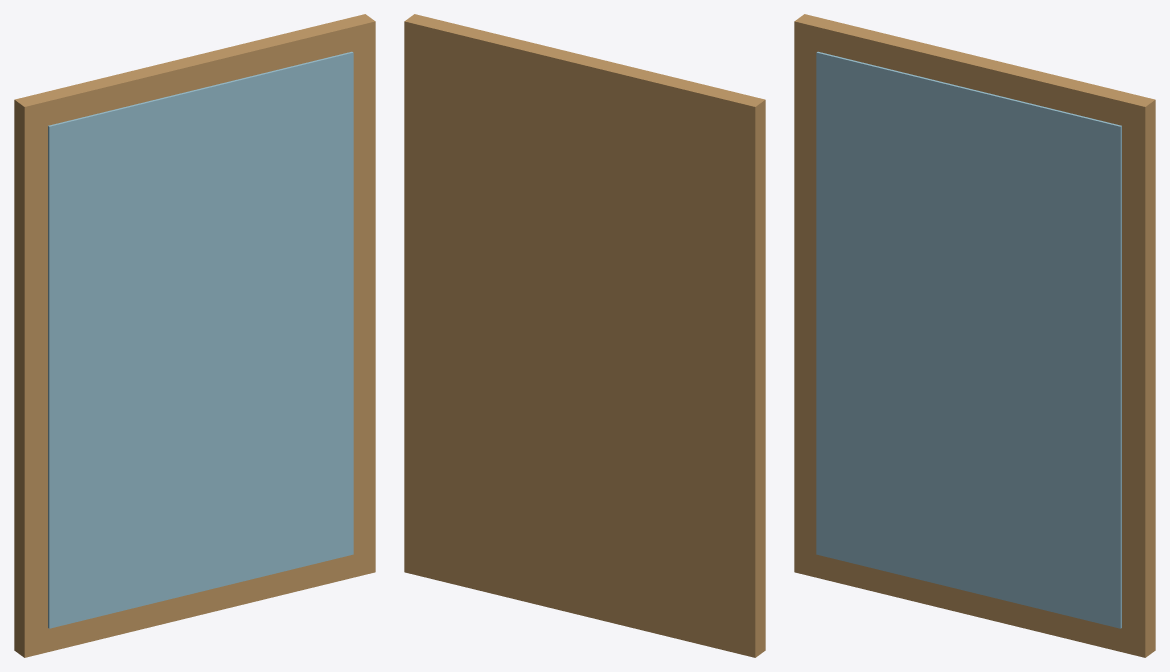
Rendered from GD_Mirror_Wall_01.glb.
3 renders of one model, left to right at view 1: azimuth 30°, elevation 25°; view 2: azimuth 150°, elevation 25°; view 3: azimuth 330°, elevation 25°, orthographic.
Parts seen in each view (by area): view 1: GD_Mirror_Wall_01; view 2: GD_Mirror_Wall_01; view 3: GD_Mirror_Wall_01.
Boxes of the visible parts, box(x1,y1,x2,y2) form: GD_Mirror_Wall_01: box(14, 14, 375, 657); GD_Mirror_Wall_01: box(404, 14, 765, 657); GD_Mirror_Wall_01: box(794, 14, 1155, 657).
Bounding box in the file's own units: 0.6 × 0.9 × 0.034.
1 material, 1 textured.
